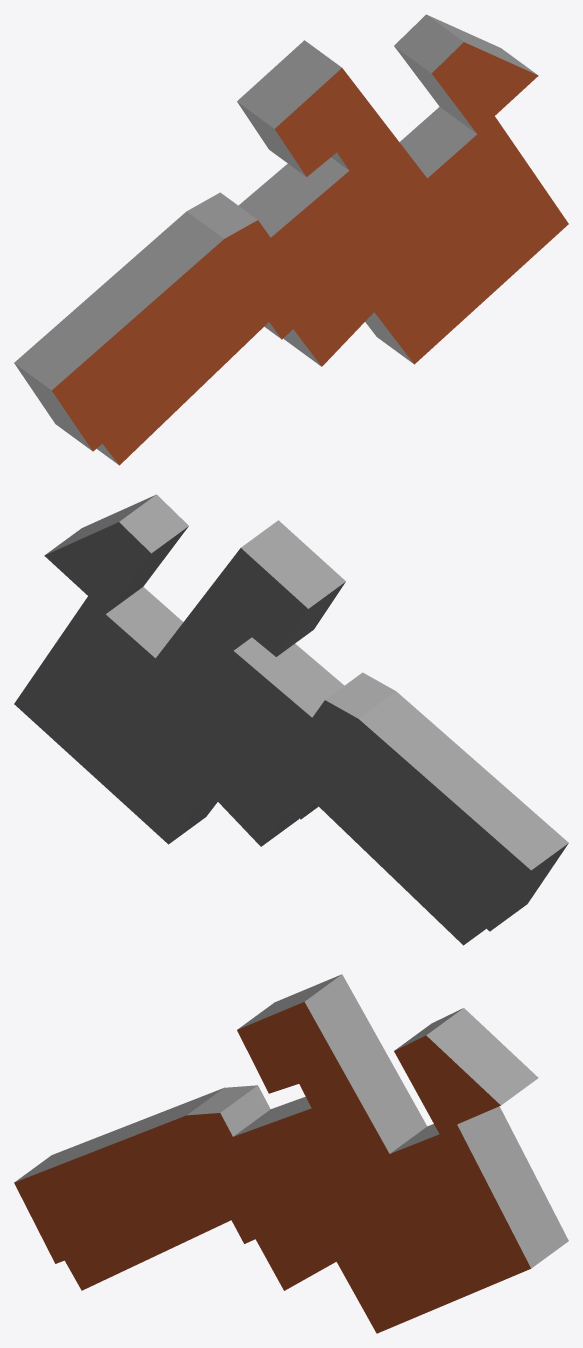
Rendered from construction_5225_assumed_A_Casa_h6m.obj.
3 renders of one model, top to bottom at view 1: azimuth 30°, elevation 25°; view 2: azimuth 150°, elevation 25°; view 3: azimuth 330°, elevation 25°, orthographic.
Parts seen in each view (by area): view 1: construction_5225_assumed_A_Casa; view 2: construction_5225_assumed_A_Casa; view 3: construction_5225_assumed_A_Casa.
Part boxes in pixels (bbox=[...]): construction_5225_assumed_A_Casa: bbox=[14, 14, 568, 465]; construction_5225_assumed_A_Casa: bbox=[14, 494, 568, 945]; construction_5225_assumed_A_Casa: bbox=[14, 974, 568, 1333].
Bounding box in the file's own units: 47.5 × 30.14 × 6.
